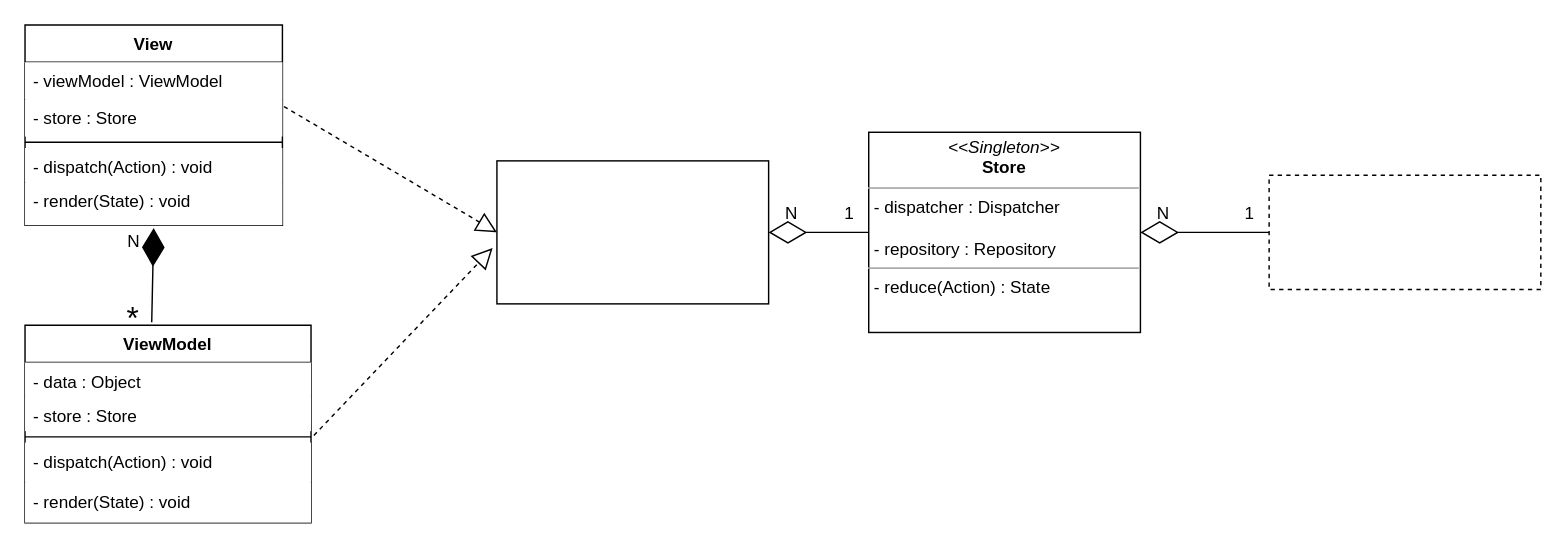
This 1566x552 diagram has some shape labels left out. The shapes that lost their labels are listed below. From the top down, each one's centre as x and y in pixels, then its label:
At (x=632, y=231): "<<Interface>> View - dispatch(Action): void - render(State): void".
At (x=1404, y=232): "<<Singleton>> Repository - dataSources : List<DataSource>".
